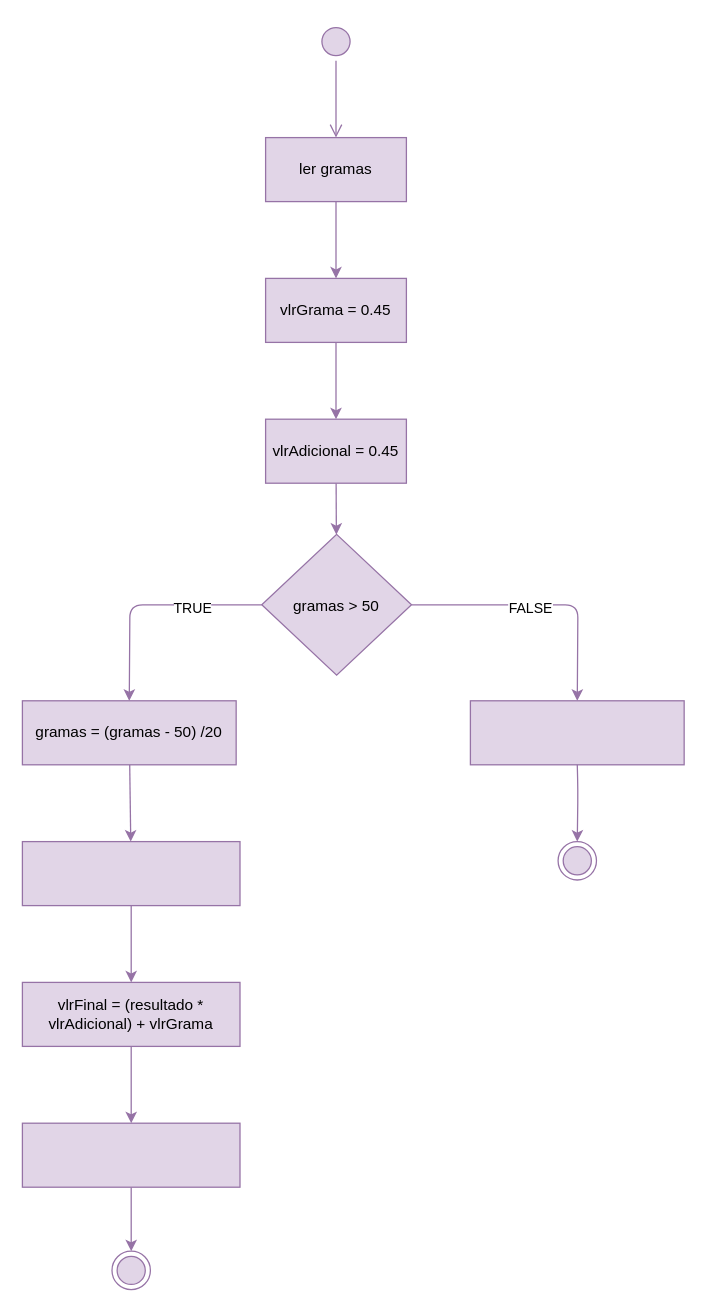
Image size: 707x1312. Some labels were removed from this diagram. Each missing label, with the centre of its shape:
"escreva vlrFinal" belongs at (130,1154).
"escreva vlrGrama" belongs at (576,732).
"resultado = (int) Math.ceil(gramas)" belongs at (130,873).
